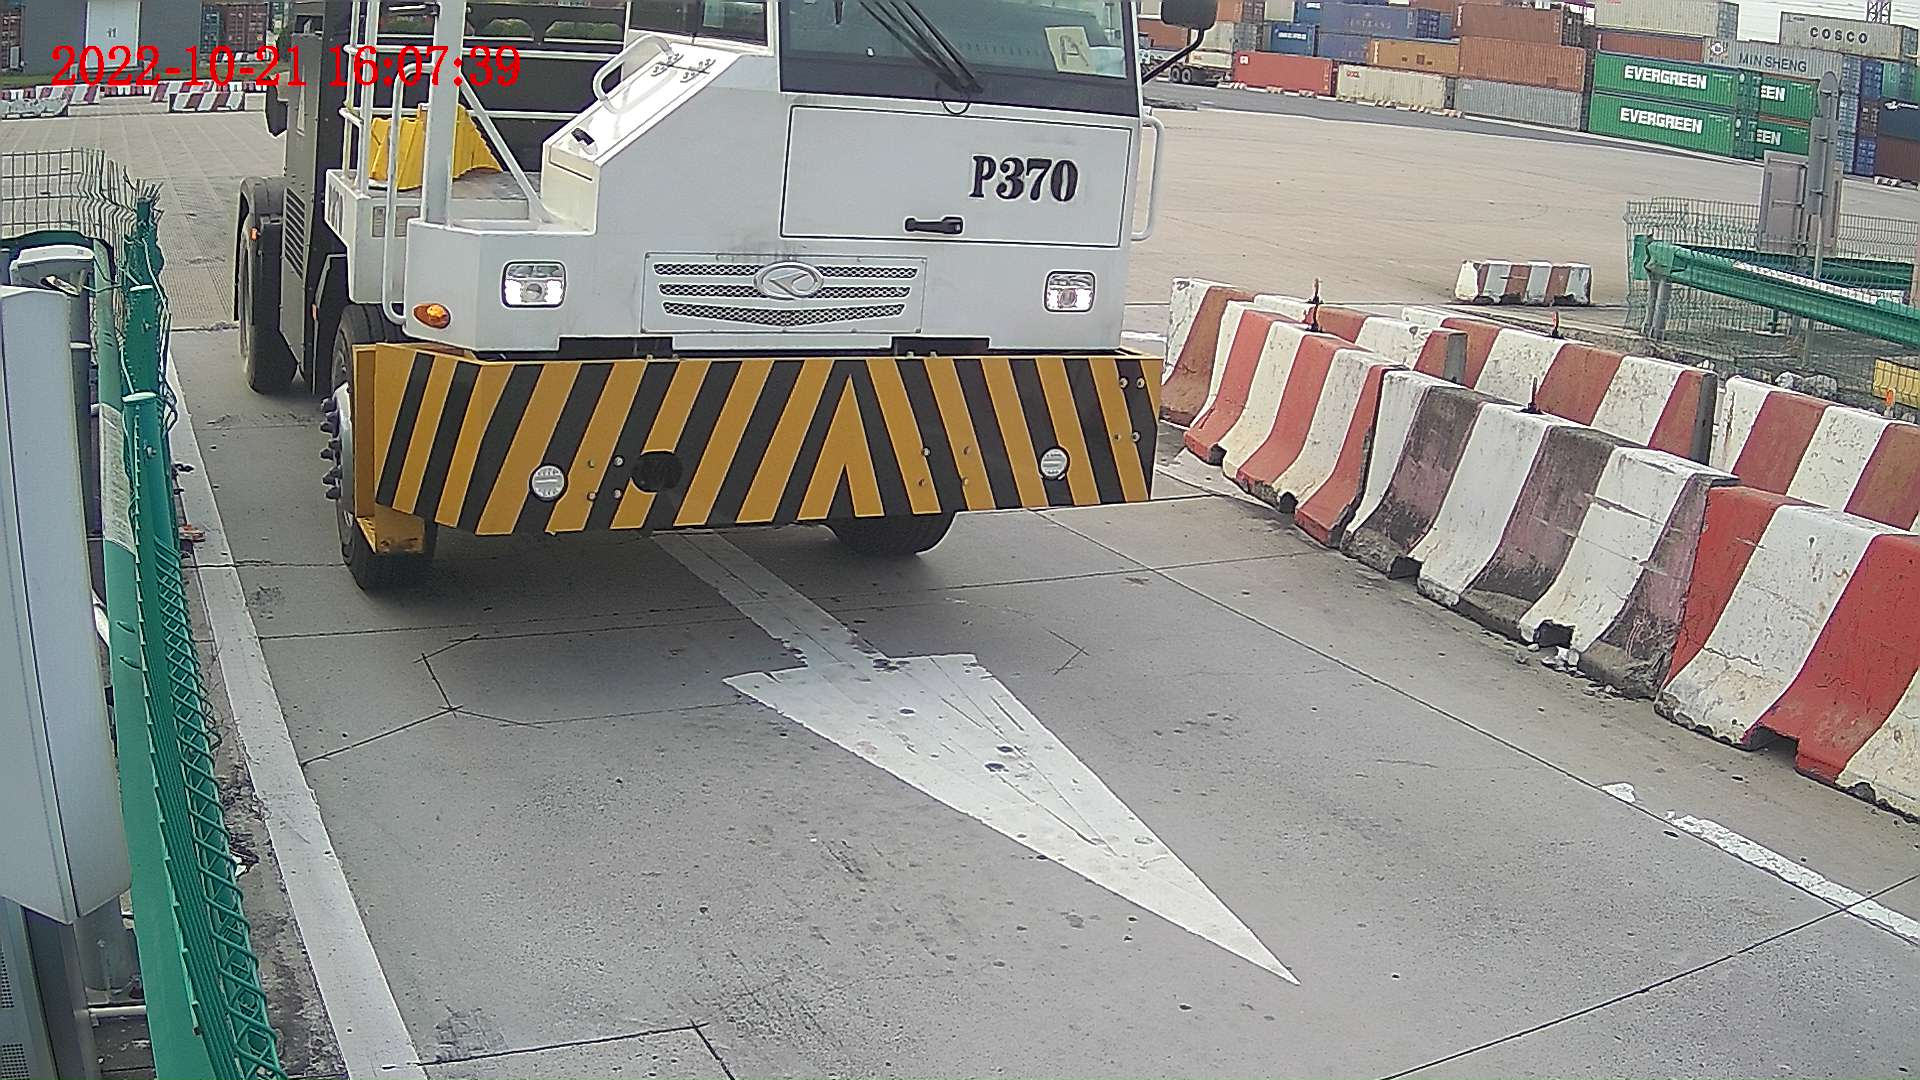head: (332, 1, 1167, 580)
